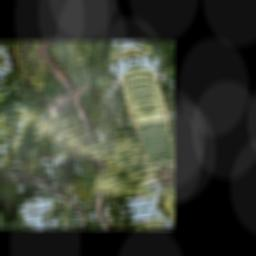Cuckoo: (38, 79, 101, 120)
